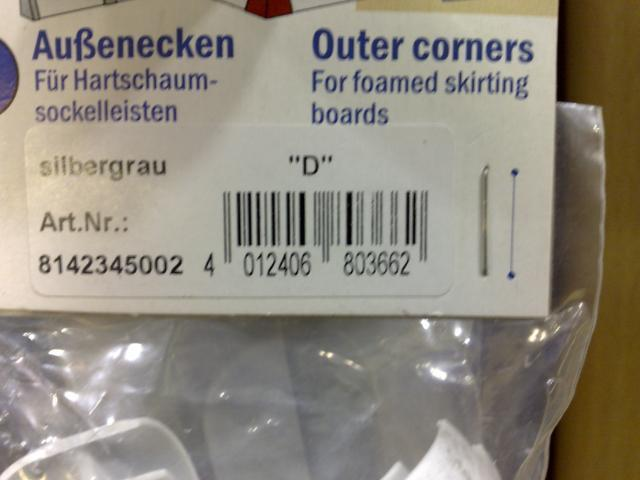Barcode: (196, 178, 445, 289)
